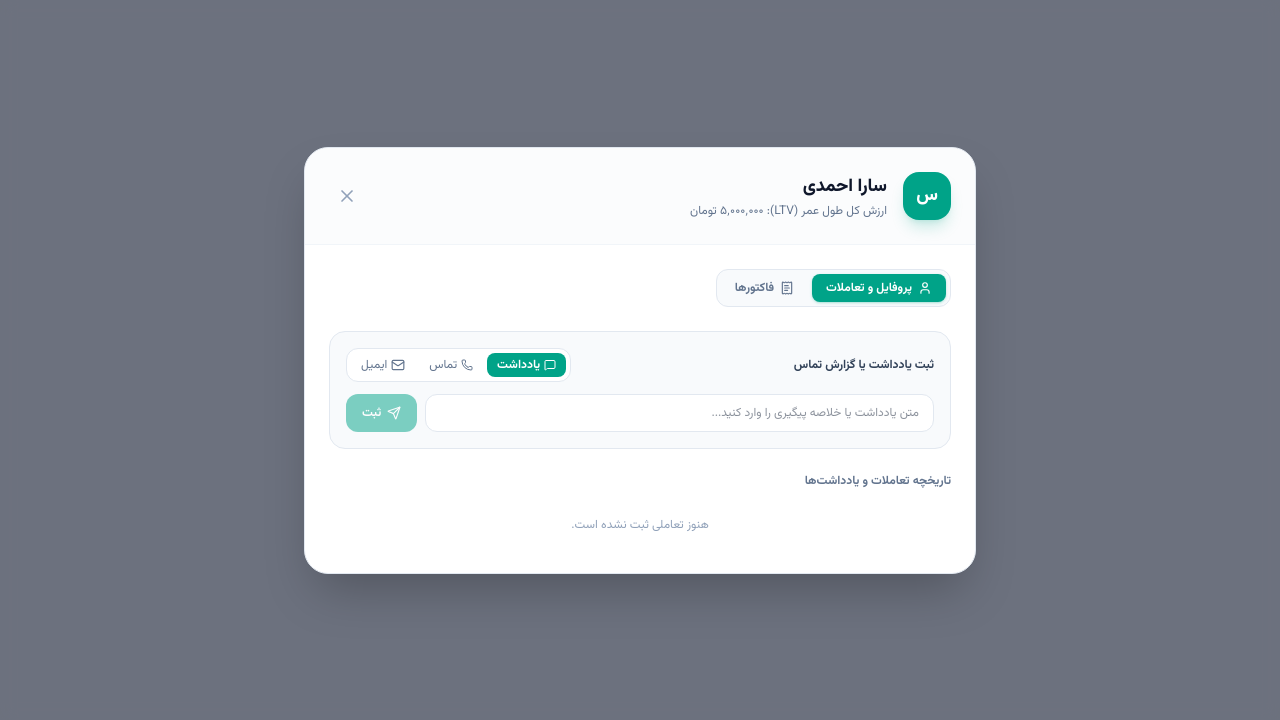
Test: [component] CRM Components › CustomerModal shows profile tab by default and lazy-loads invoices on tab switch
expect the text "ثبت یادداشت یا گزارش تماس" is shown: met, box [794,356,934,372]
Step 1. Click the button "فاکتورها" → click(764, 288), box [721,274,808,302]
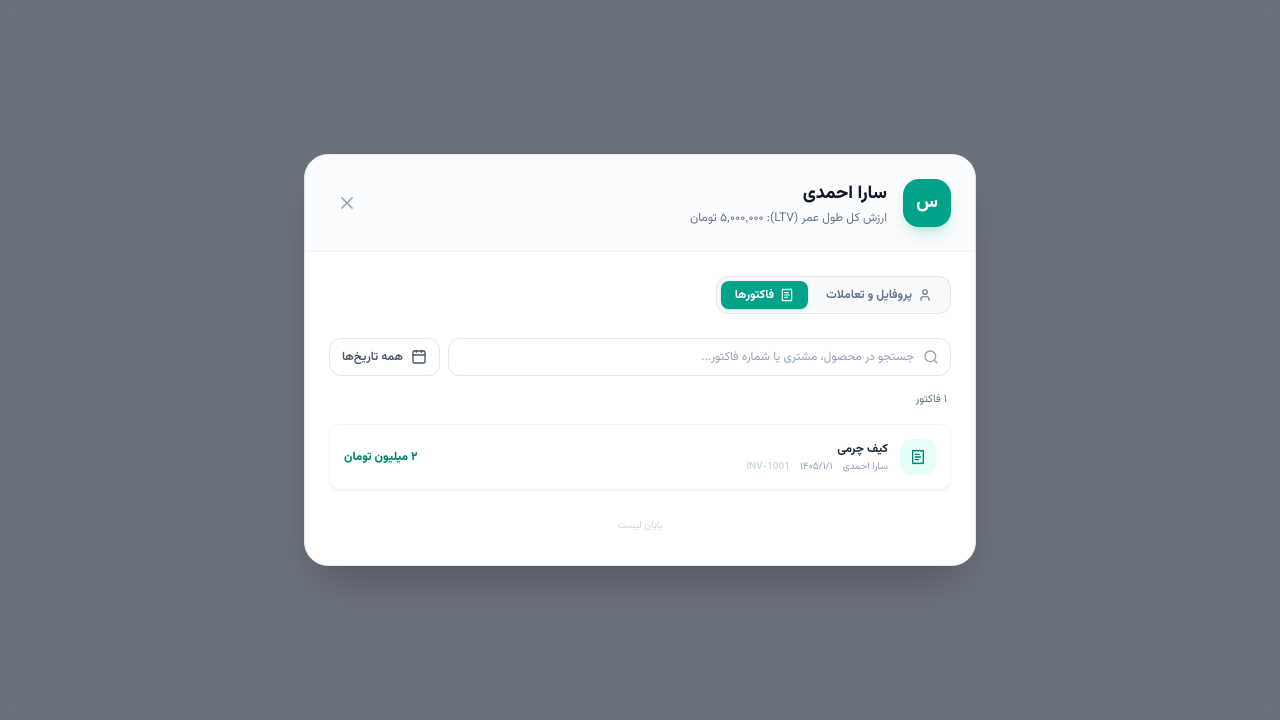
expect the text "کیف چرمی" is shown: met, box [837,440,888,458]
// Switching back keeps the interaction form reachable
Step 2. Click the button "پروفایل و تعاملات" → click(879, 295), box [812,281,946,309]
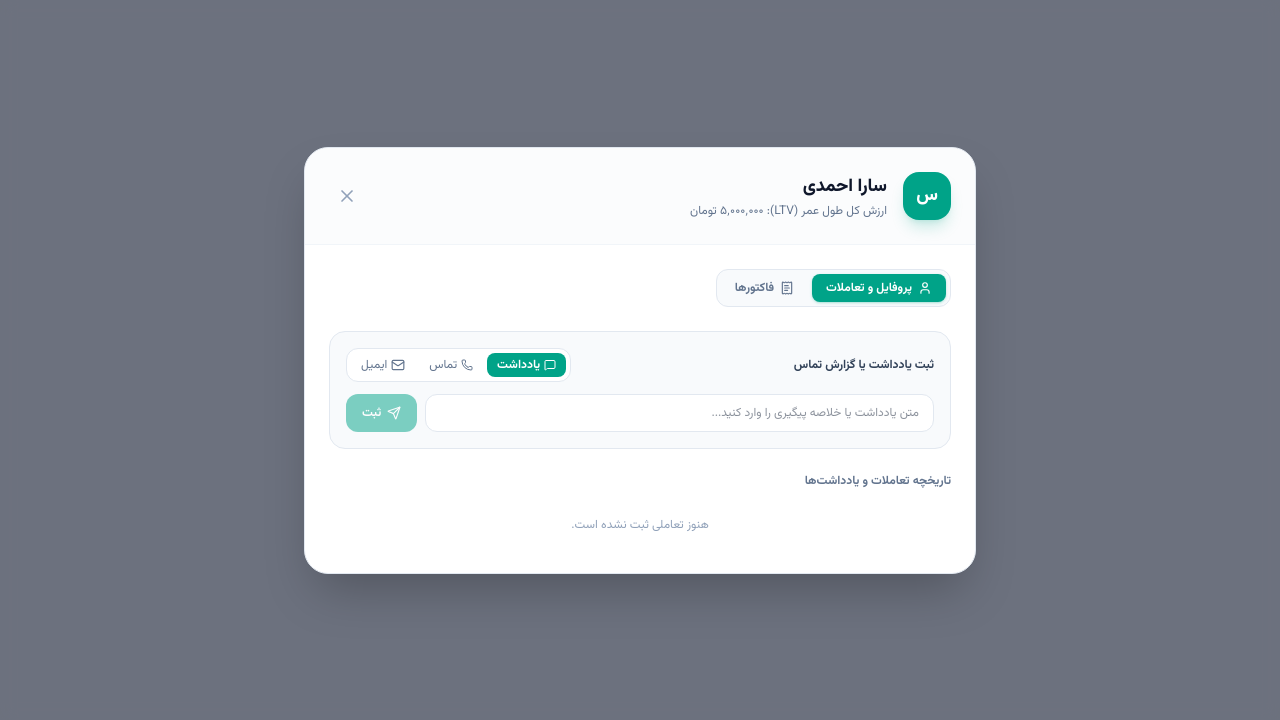
expect the text "ثبت یادداشت یا گزارش تماس" is shown: met, box [794,356,934,372]
